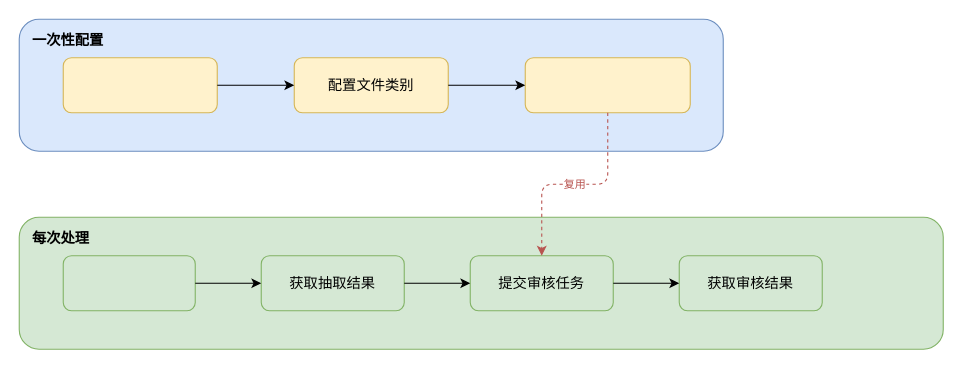
Image size: 963x369. Some labels were removed from this diagram. Here are the shapes that lost their labels. From the top down, the centre of each, then its label:
point (139, 85): 创建工作空间
point (607, 85): 配置审核规则库
point (128, 283): 上传文件
